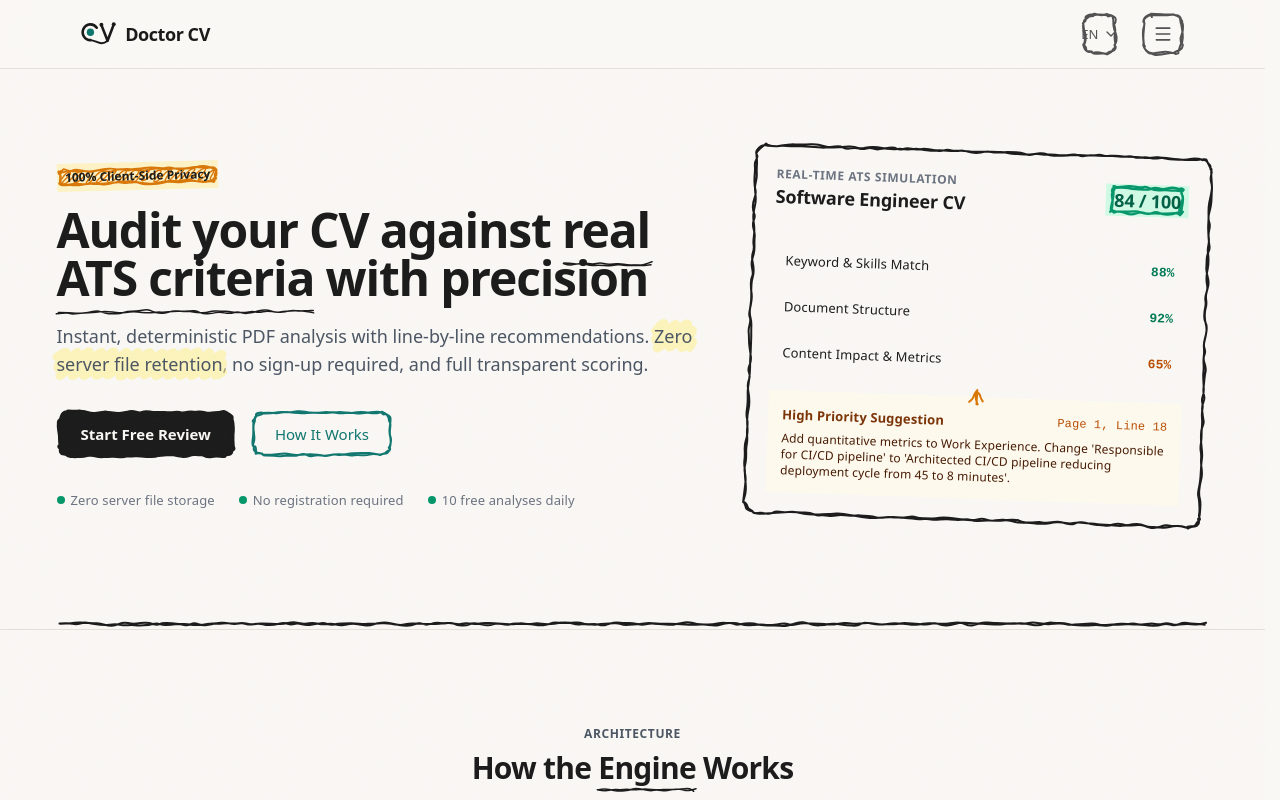
Test: Landing Page Components (FEAT-13, BR-14) › closes the drawer when a section link is clicked
Click the button named "Menu" at (1162, 34), box [1140,12,1184,56]
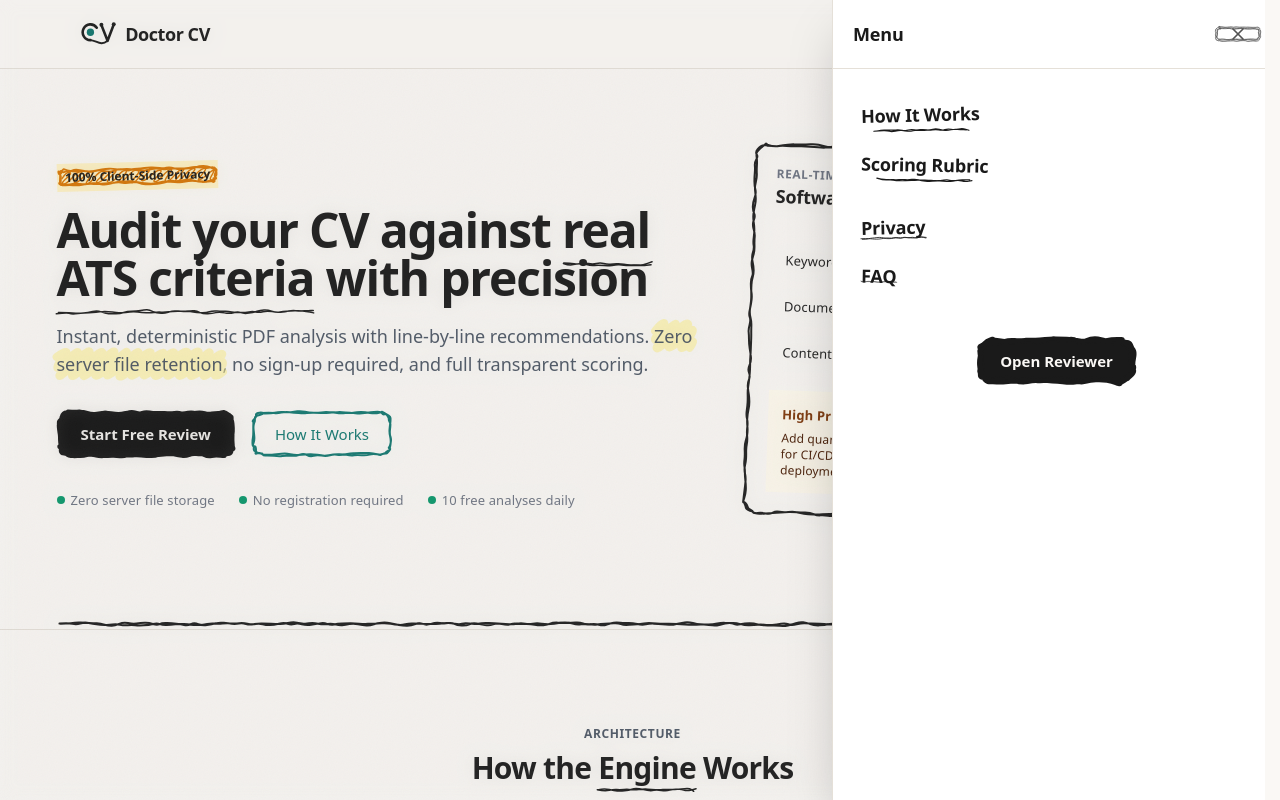
Click the link "Privacy" at (893, 227), box [861,212,926,242]
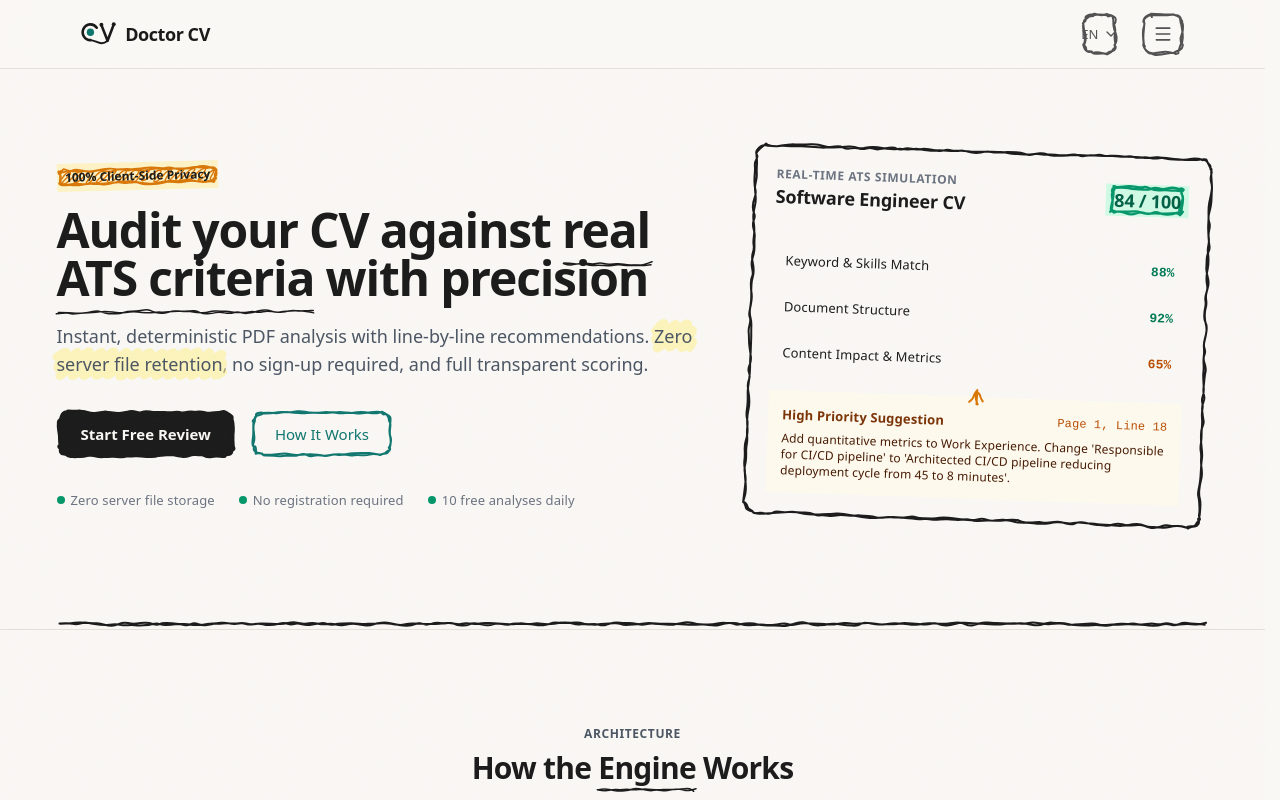
Expected: the dialog is gone
